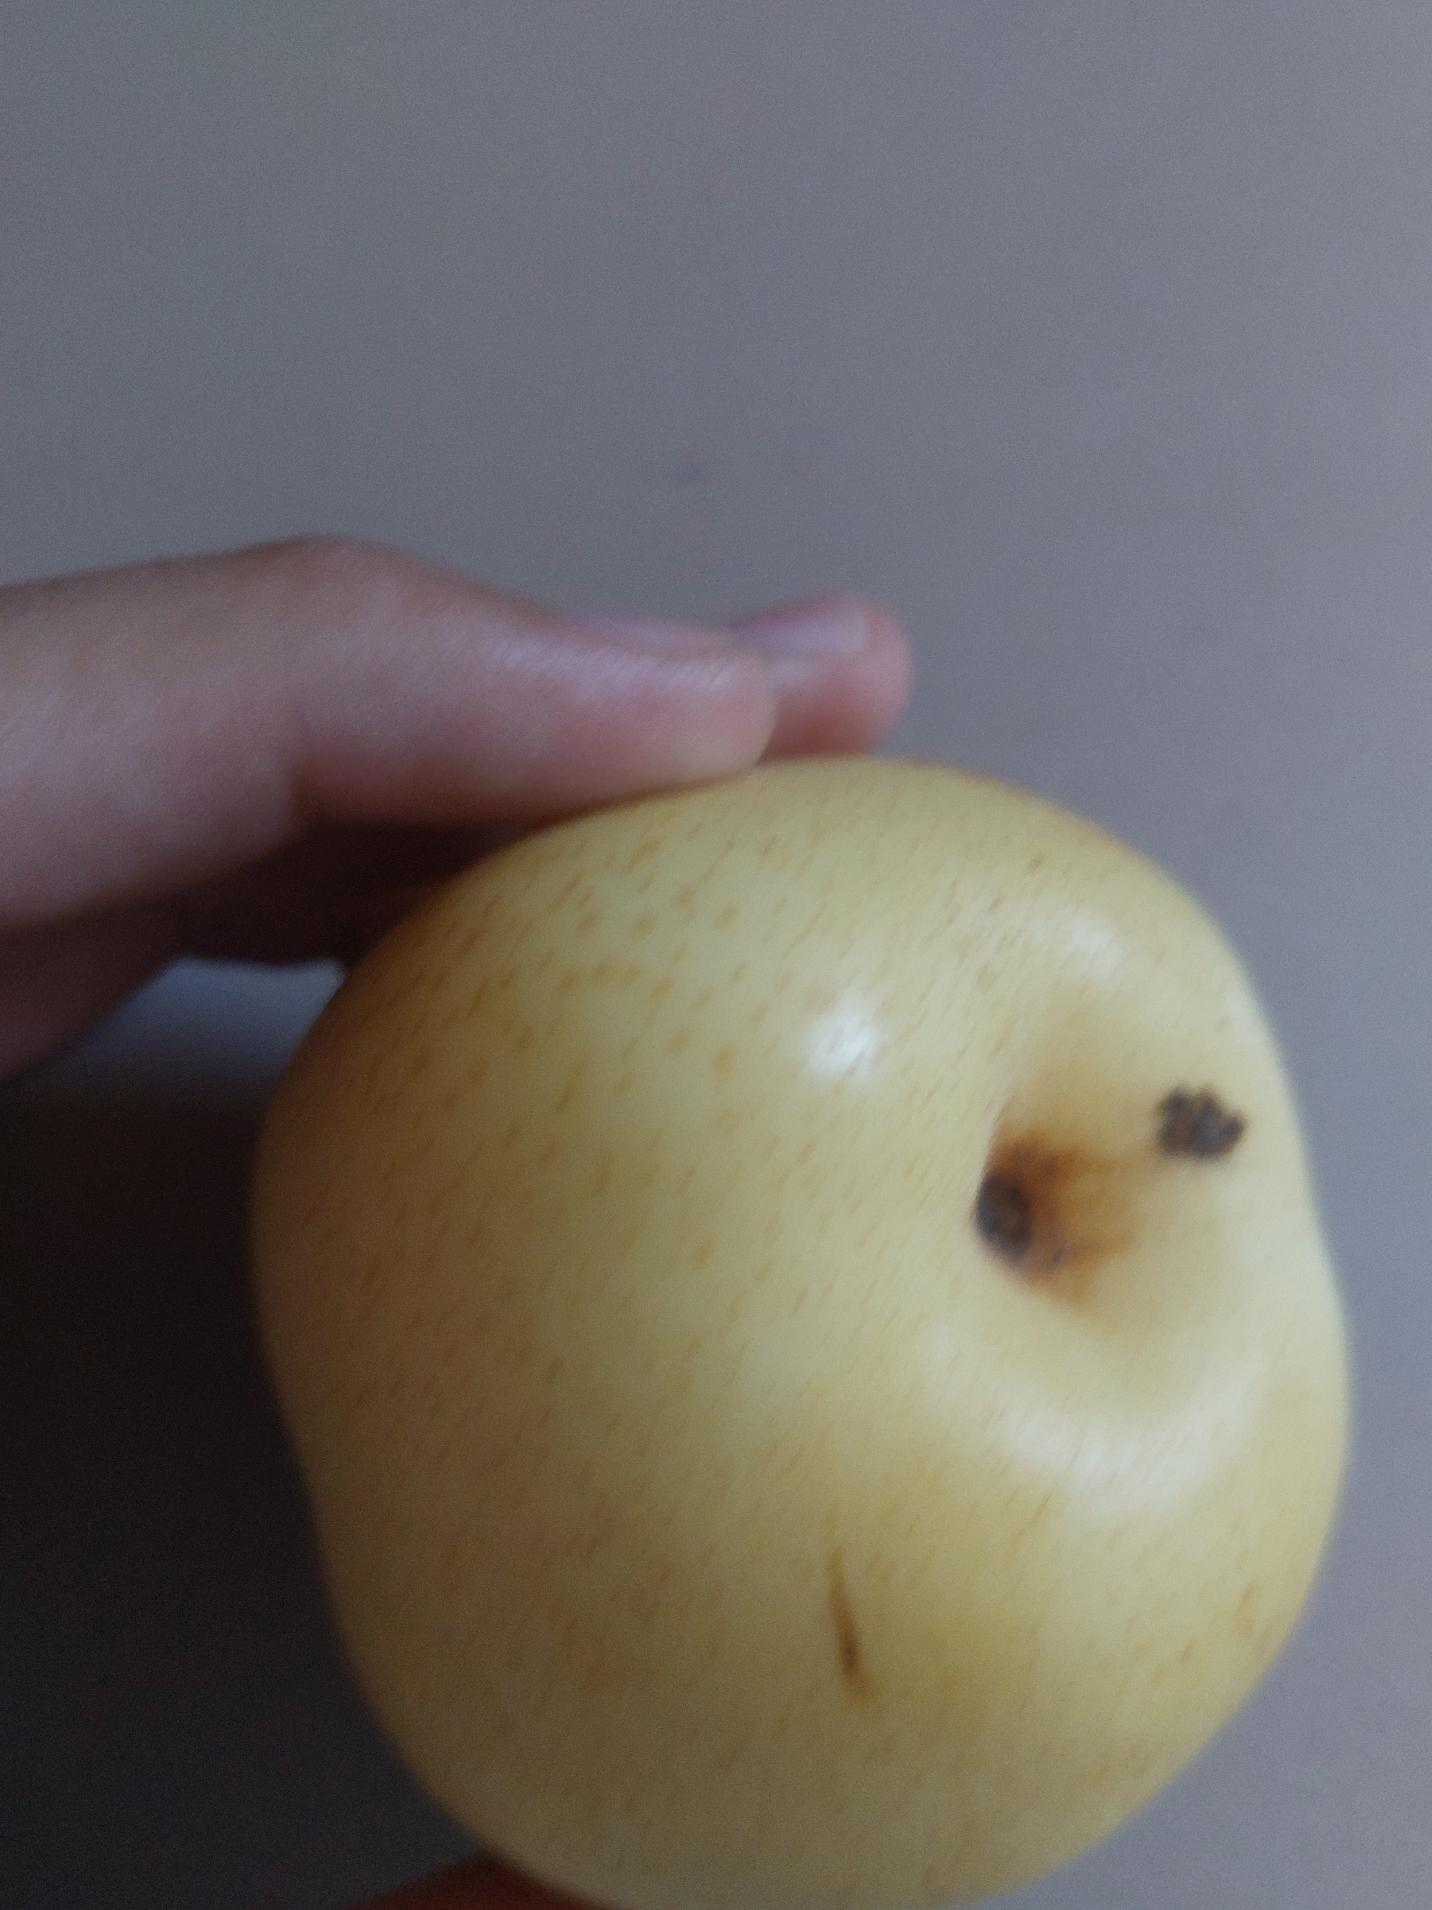Good Pear: (253, 738, 1358, 1910)
